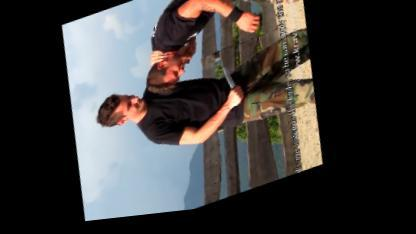knife: (216, 61, 257, 118)
